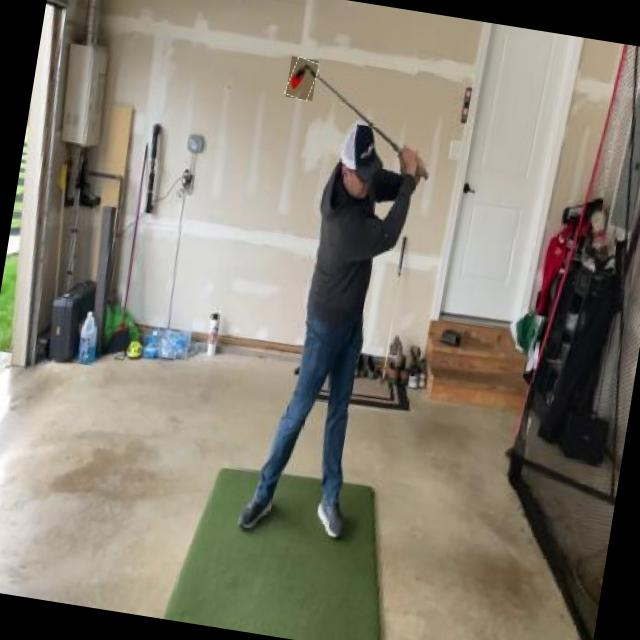club head: (286, 56, 318, 101)
